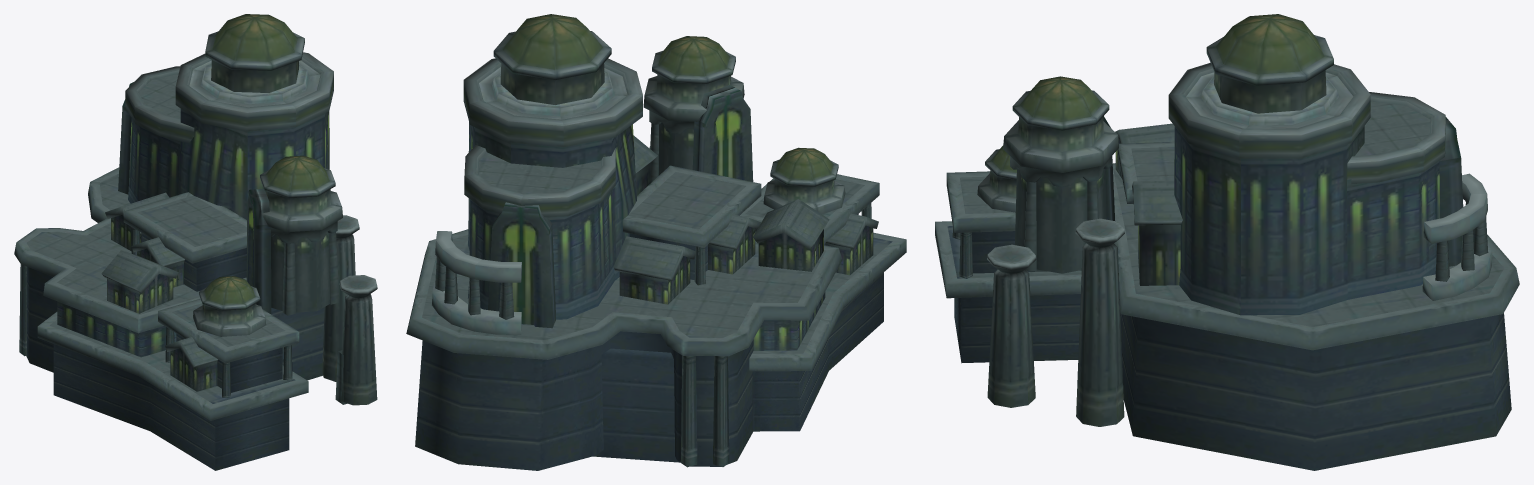
The model's file is city_A1.fbx.
The picture shows the model from 3 angles, left to right: view 1: azimuth 30°, elevation 25°; view 2: azimuth 150°, elevation 25°; view 3: azimuth 270°, elevation 25°; orthographic projection. The views are drawn at different scales.
Visible parts, largest first — view 1: city_A1; view 2: city_A1; view 3: city_A1.
Boxes of the visible parts, x1,y1,x2,y2 form: city_A1: [14, 14, 377, 470]; city_A1: [406, 14, 906, 470]; city_A1: [935, 14, 1519, 470].
Size of the model in its own units: 15.01 by 14.66 by 19.1.
